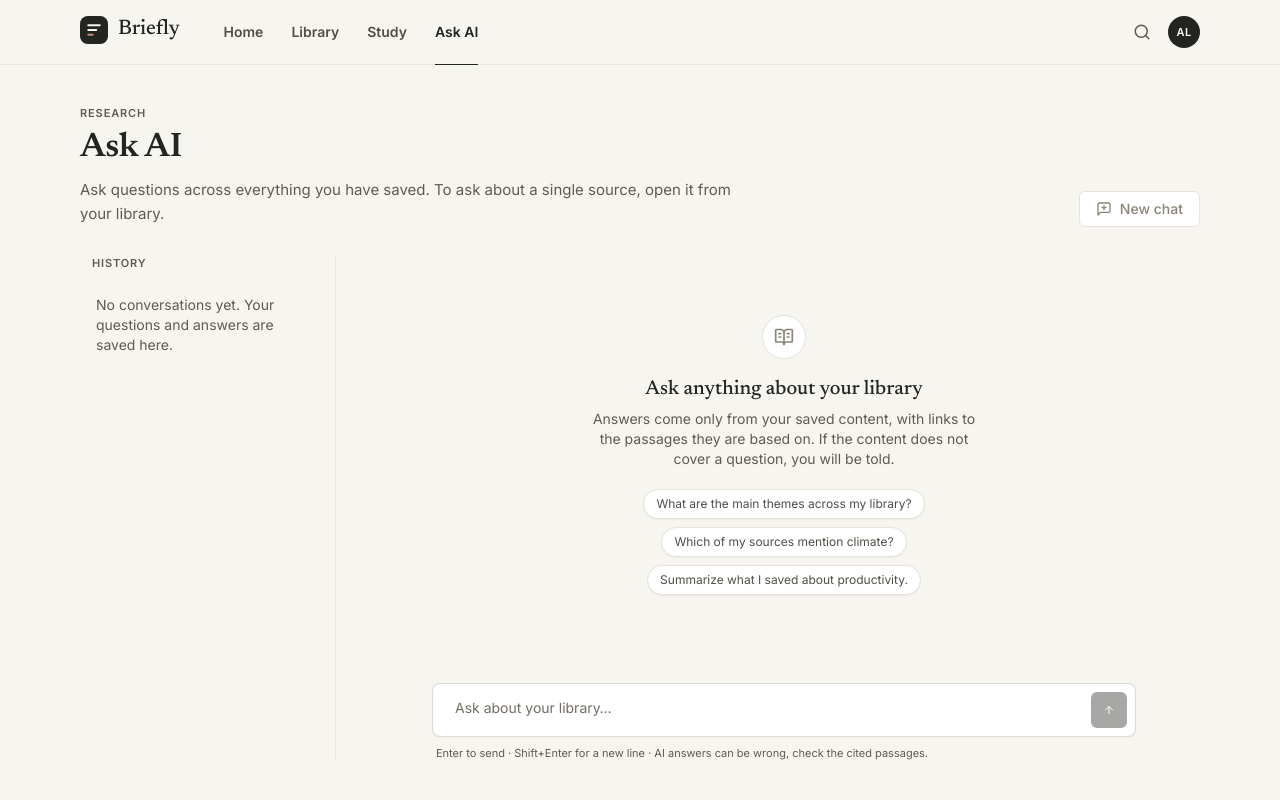
Ask AI › a failed question shows the error and keeps the text to retry
In the text box named "Your question": (765, 710) [447, 692, 1083, 728], type "Hello?"
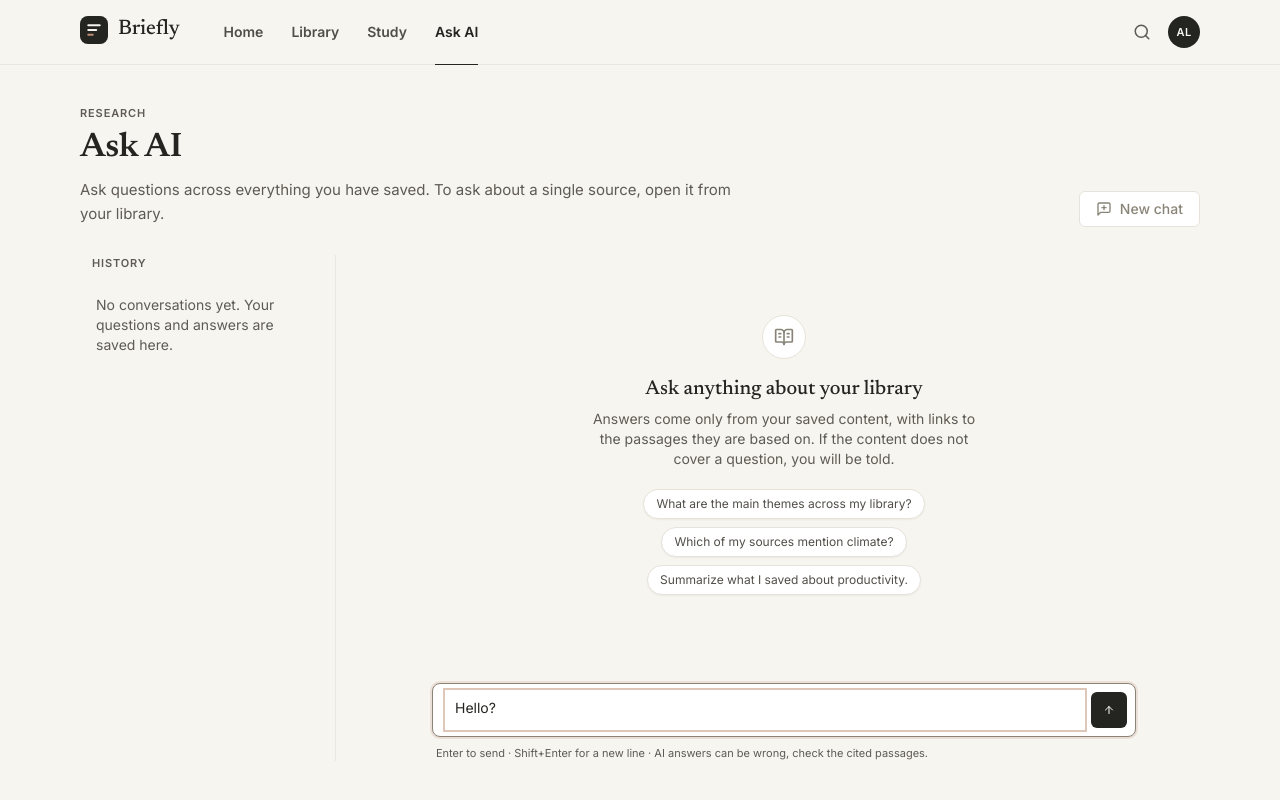
Click the button named "Send question": (1109, 710) [1091, 692, 1127, 728]
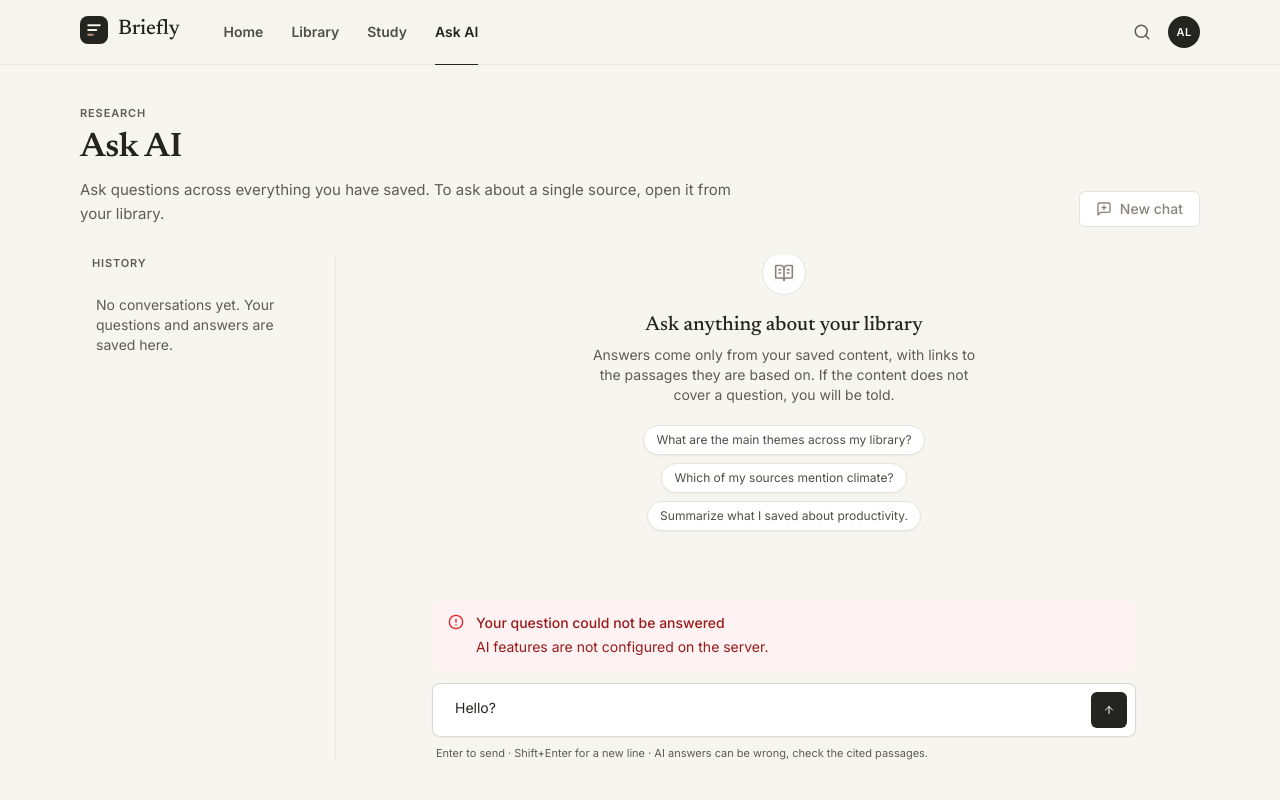
expect the text "AI features are not configured on the server." is shown: met, box [476, 636, 768, 659]
